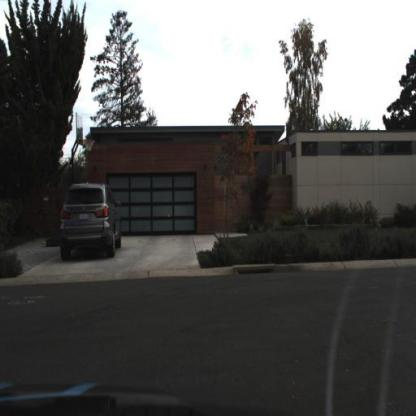car: (56, 179, 122, 255)
